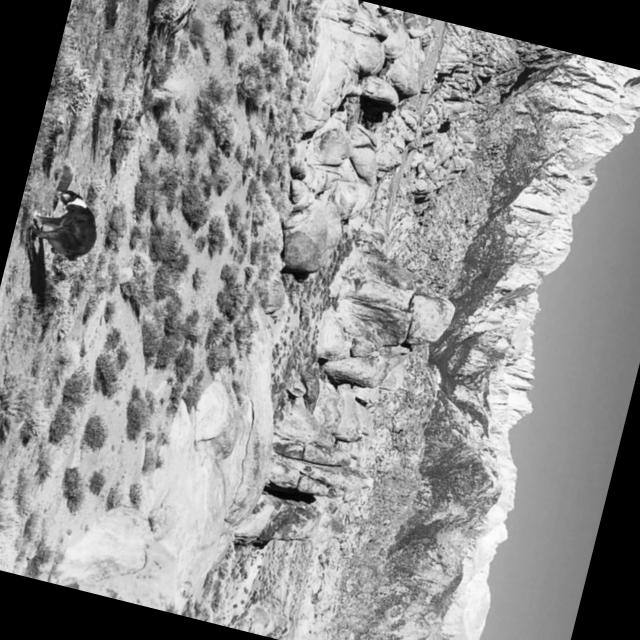squatting: (13, 174, 113, 284)
